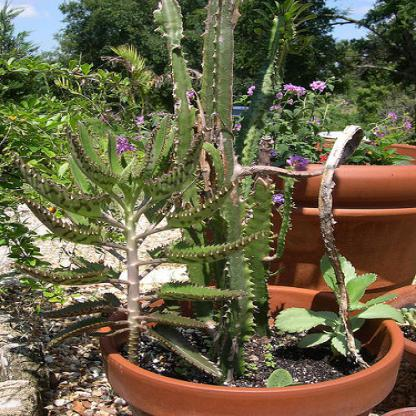pottedplant: (10, 0, 405, 415), (205, 79, 415, 309), (378, 280, 415, 356)
